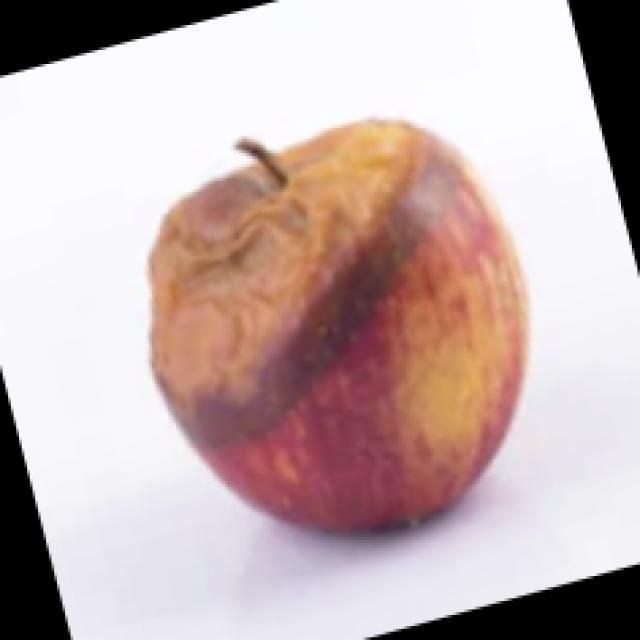Rotten: (125, 130, 543, 535)
